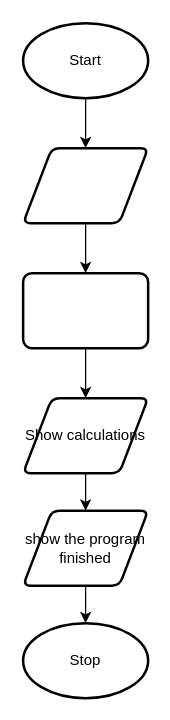
Some shapes in this 170 by 720 pixel diagram are drawn without their labels. Each missing label, with the centre of its shape:
"Enter the length of the logs" belongs at point 85,185.
"maxLogsCarried = 1100 / (20 x length)" belongs at point 85,310.
